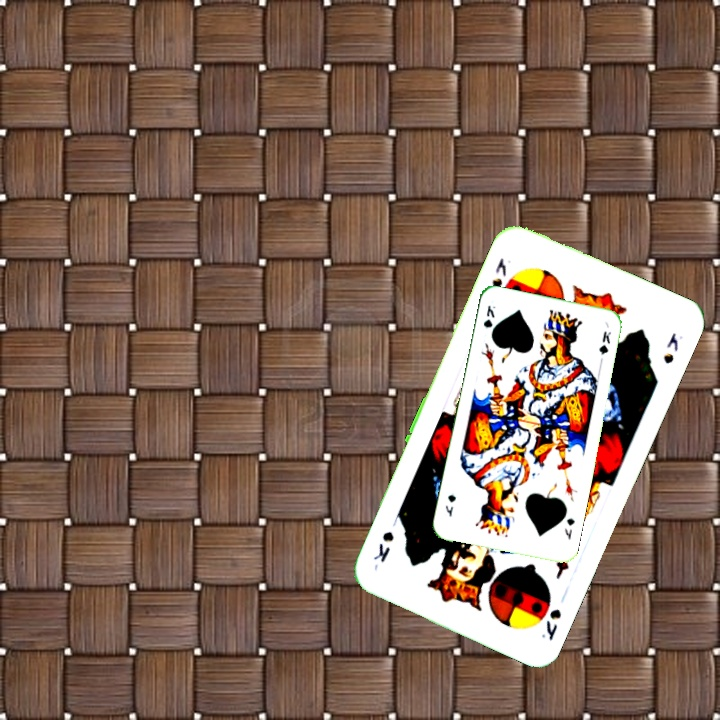GK: (479, 301, 498, 330), (560, 514, 577, 542)
SK: (537, 604, 564, 644), (487, 254, 509, 291)
